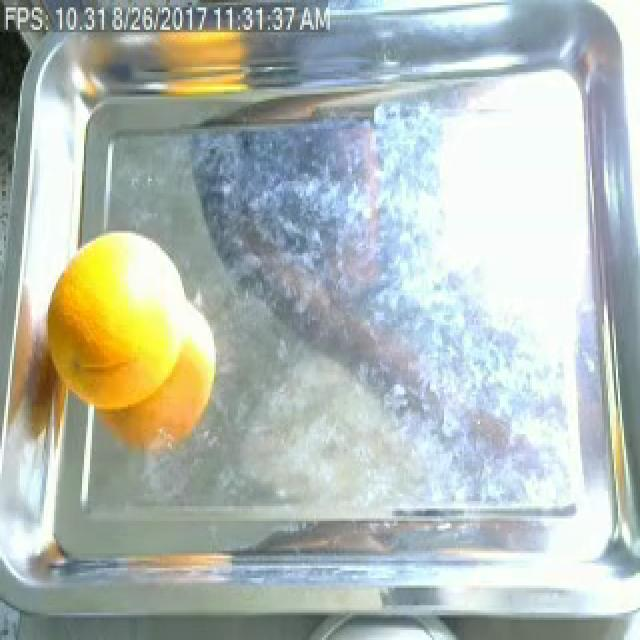Fruit: (34, 213, 202, 454)
